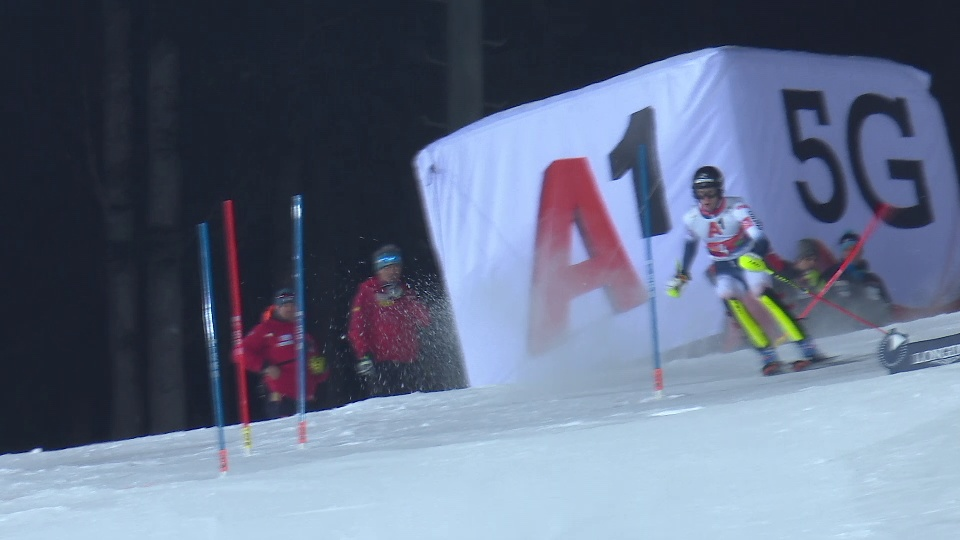5g: (779, 84, 938, 246)
a1: (529, 127, 653, 348), (708, 220, 728, 239)
